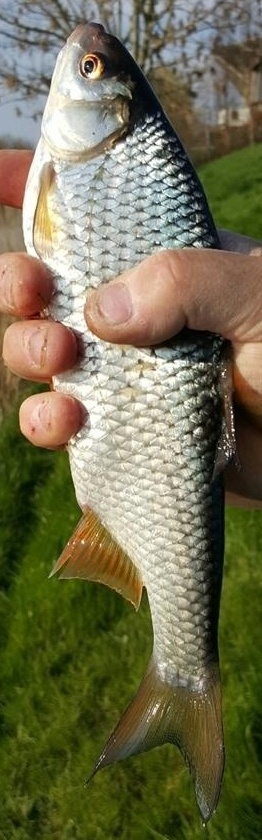Rutilus rutilus: (20, 20, 242, 820)
